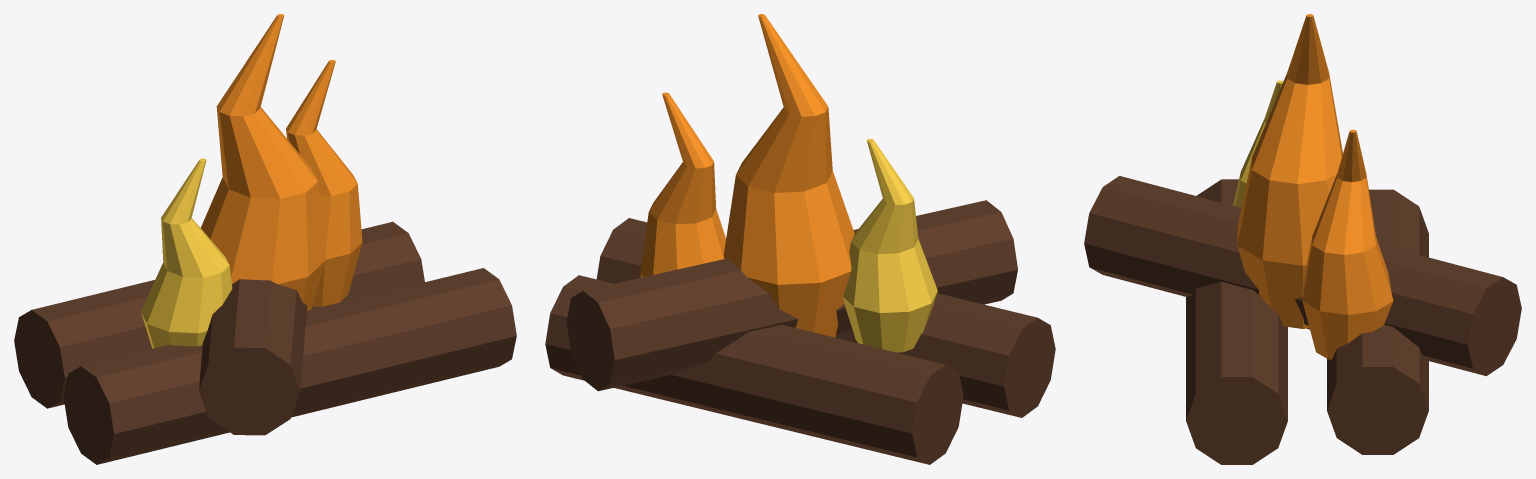
File: NEW_RECOVERY_080_LOD1.glb
3 views of the same model, side by side, from view 1: azimuth 30°, elevation 25°; view 2: azimuth 150°, elevation 25°; view 3: azimuth 270°, elevation 25° (orthographic).
Visible parts, largest first — view 1: Campfire_whole_static_prop; view 2: Campfire_whole_static_prop; view 3: Campfire_whole_static_prop.
Part boxes in pixels (box(x1,y1,x2,y2)): Campfire_whole_static_prop: box(14, 14, 516, 464); Campfire_whole_static_prop: box(545, 14, 1055, 464); Campfire_whole_static_prop: box(1084, 14, 1521, 464).
Bounding box in the file's own units: 1.56 × 1.34 × 1.46.
